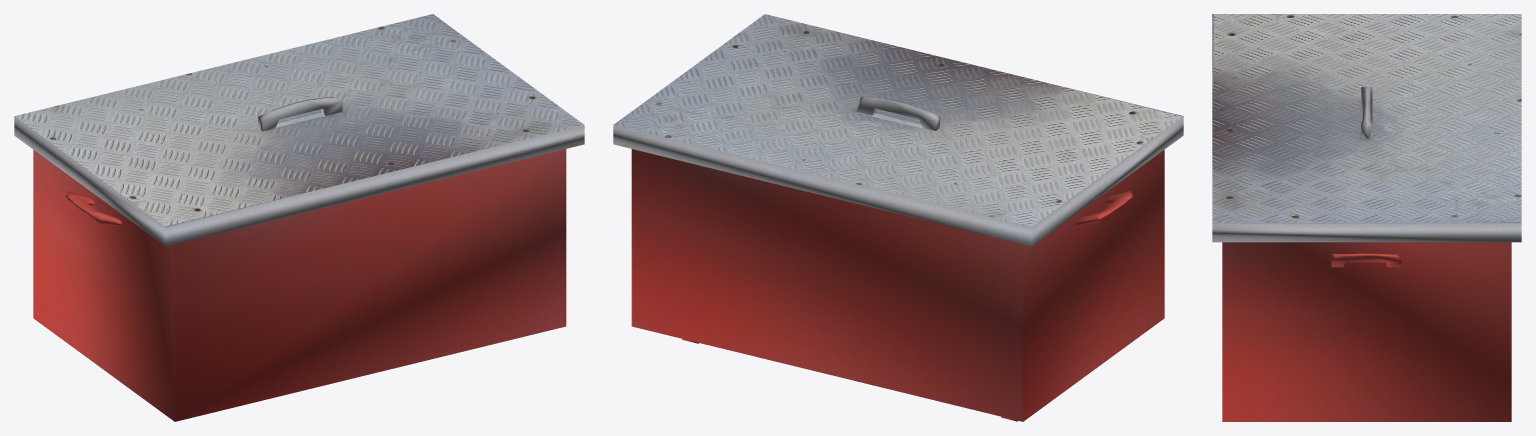
File: city2-electricBox2.fbx
3 renders of one model, left to right at view 1: azimuth 30°, elevation 25°; view 2: azimuth 150°, elevation 25°; view 3: azimuth 270°, elevation 25°, orthographic. The views are drawn at different scales.
Parts seen in each view (by area): view 1: Default_Layer; view 2: Default_Layer; view 3: Default_Layer.
Part boxes in pixels (x1=…): Default_Layer: x1=14, y1=14, x2=584, y2=421; Default_Layer: x1=613, y1=14, x2=1183, y2=421; Default_Layer: x1=1212, y1=14, x2=1521, y2=421.
Size of the model in its own units: 259 by 133 by 155.
1 material, 1 textured.
